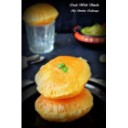poori: (37, 56, 92, 97), (32, 91, 94, 121)
